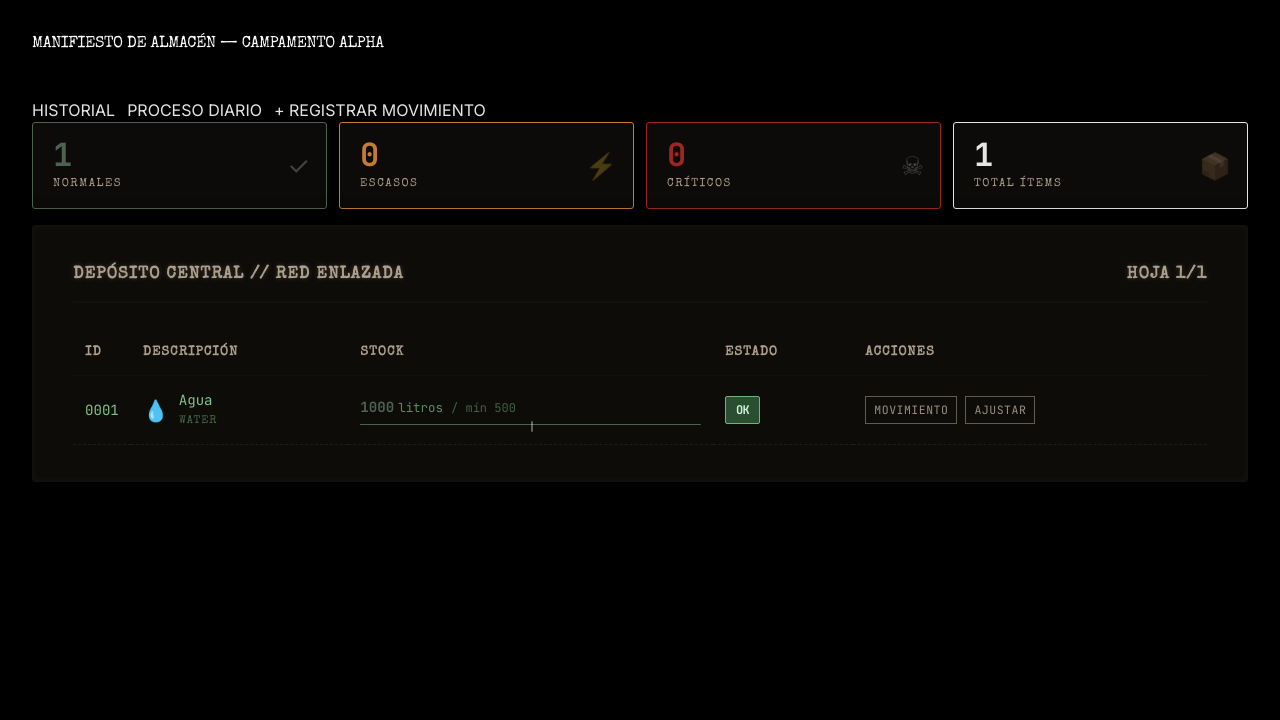
Test: Admin → Resources › movements history › renders movement rows when history has entries
Click the button "HISTORIAL". click: (74, 110)
box: [32, 98, 115, 122]
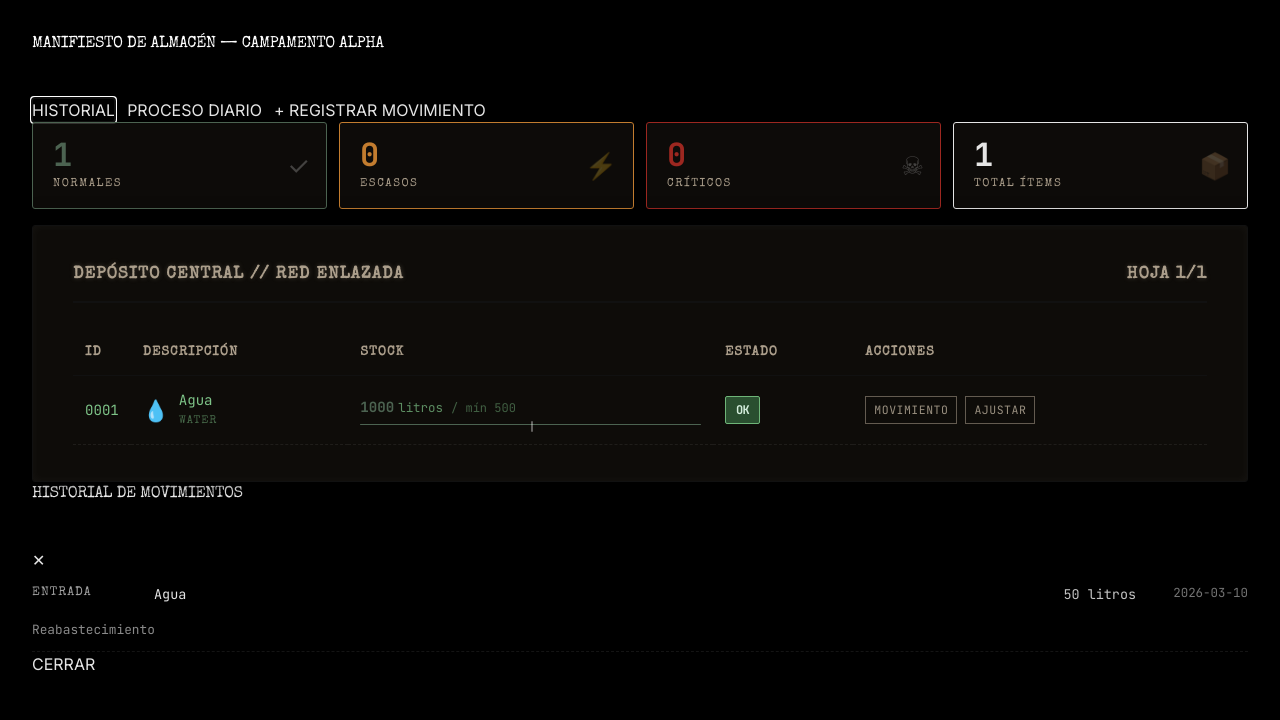
Expected: the text "Reabastecimiento" is shown, [32, 621, 155, 638]
Expected: the text "50 litros" is shown, [1063, 585, 1136, 603]
